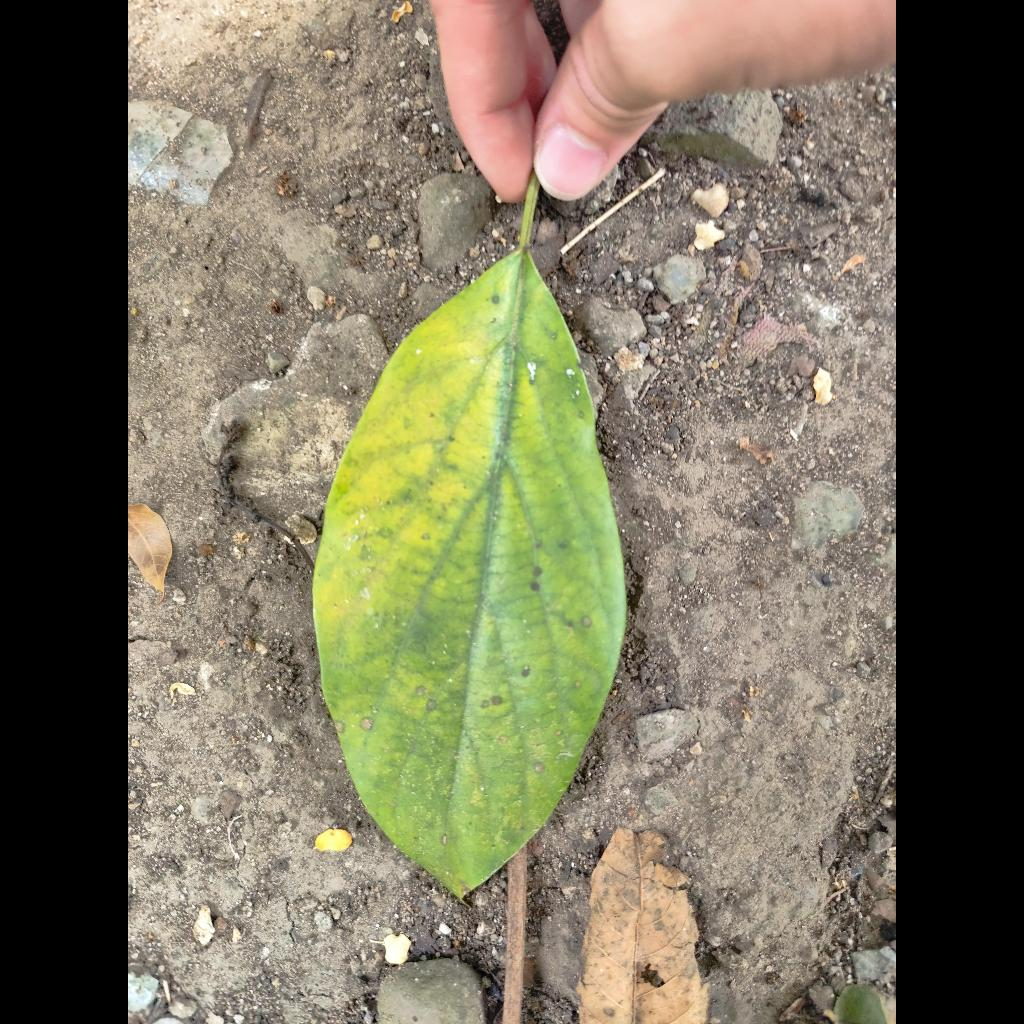nutrient_deficiency: (313, 247, 625, 896)
